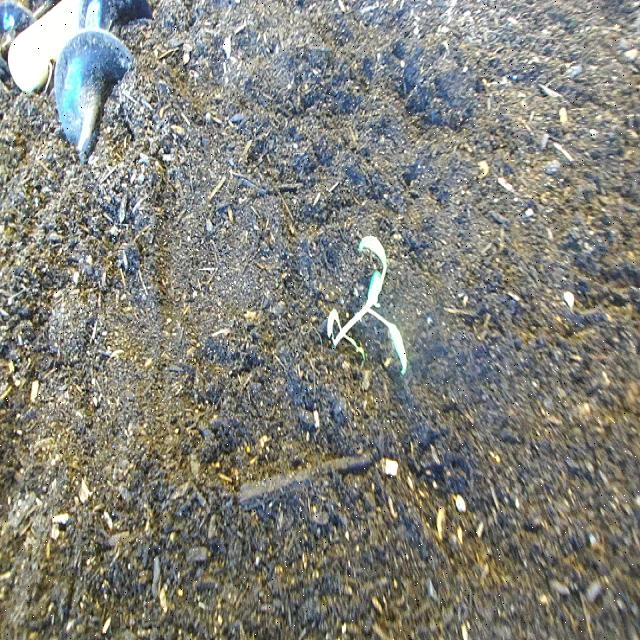Healthy: (320, 228, 414, 388)
